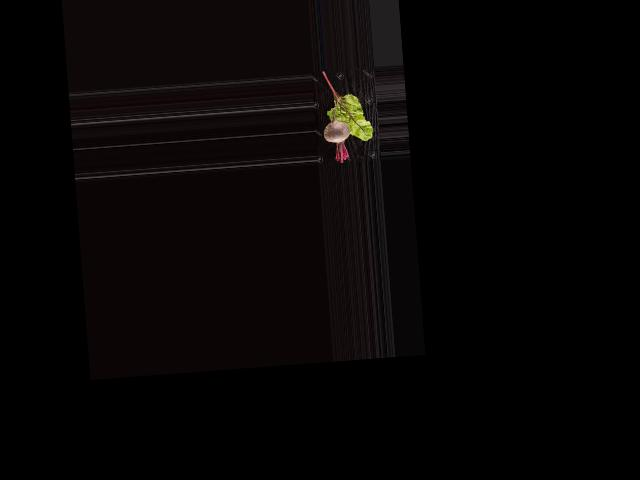beet: (320, 95, 352, 164)
